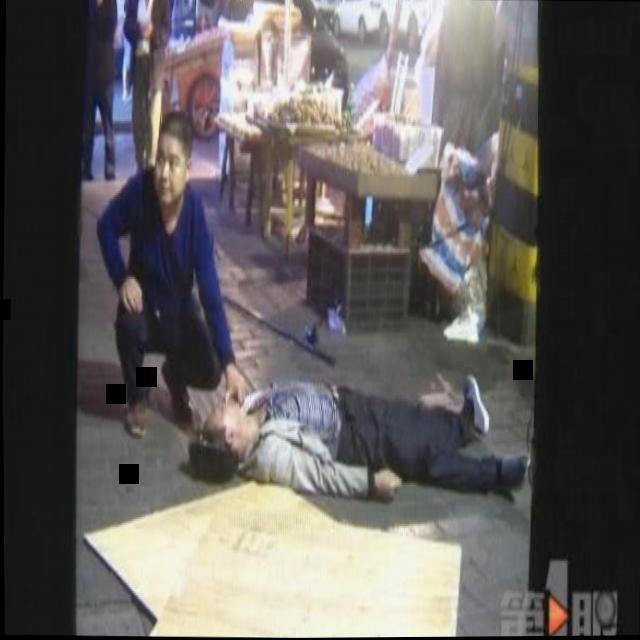Fall-Detected: (173, 341, 531, 532)
